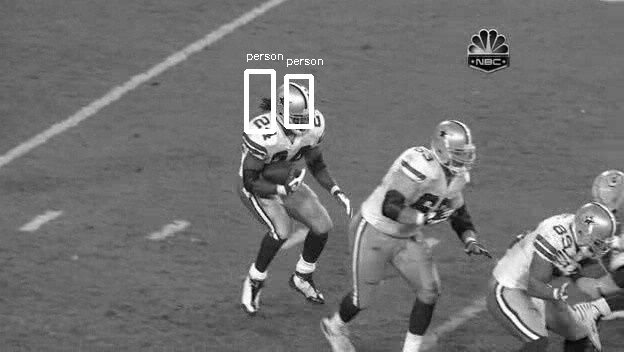person: (278, 84, 314, 130), (277, 84, 313, 130), (279, 84, 315, 130), (278, 83, 314, 129), (278, 85, 314, 131)
target_negative: (351, 75, 474, 216), (517, 190, 606, 269), (468, 209, 521, 325), (426, 49, 433, 325), (371, 345, 565, 352), (264, 286, 267, 342)
